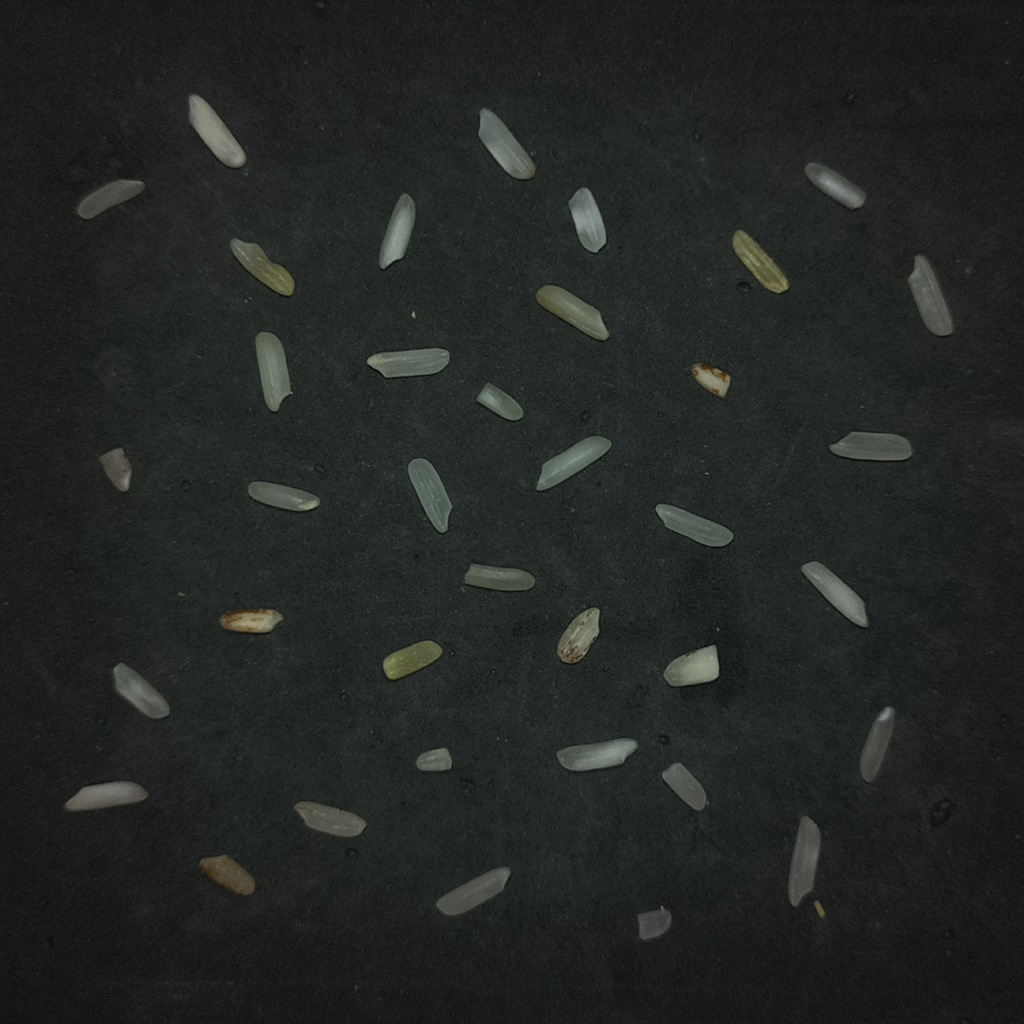broken: (805, 162, 865, 209), (294, 801, 366, 837), (568, 187, 606, 253), (662, 762, 706, 810), (476, 382, 523, 421), (99, 447, 131, 491), (637, 906, 671, 940), (415, 747, 452, 771)
chalky: (801, 561, 868, 627), (189, 94, 245, 167), (378, 193, 416, 270), (556, 738, 637, 771), (663, 645, 719, 686)
discolored: (536, 285, 609, 340), (230, 238, 294, 296), (732, 230, 788, 293), (382, 640, 442, 679)
red: (557, 607, 599, 663), (199, 856, 254, 894), (219, 609, 282, 633), (691, 363, 730, 397)
whole: (536, 435, 611, 490), (478, 108, 535, 179), (436, 866, 509, 915), (908, 255, 952, 336), (655, 503, 733, 546), (407, 458, 451, 532), (112, 663, 169, 718), (788, 816, 820, 906), (255, 332, 291, 411), (77, 179, 143, 219), (860, 706, 894, 782), (64, 780, 147, 811), (829, 431, 912, 461), (366, 348, 449, 377), (248, 481, 319, 511), (463, 563, 535, 591)
